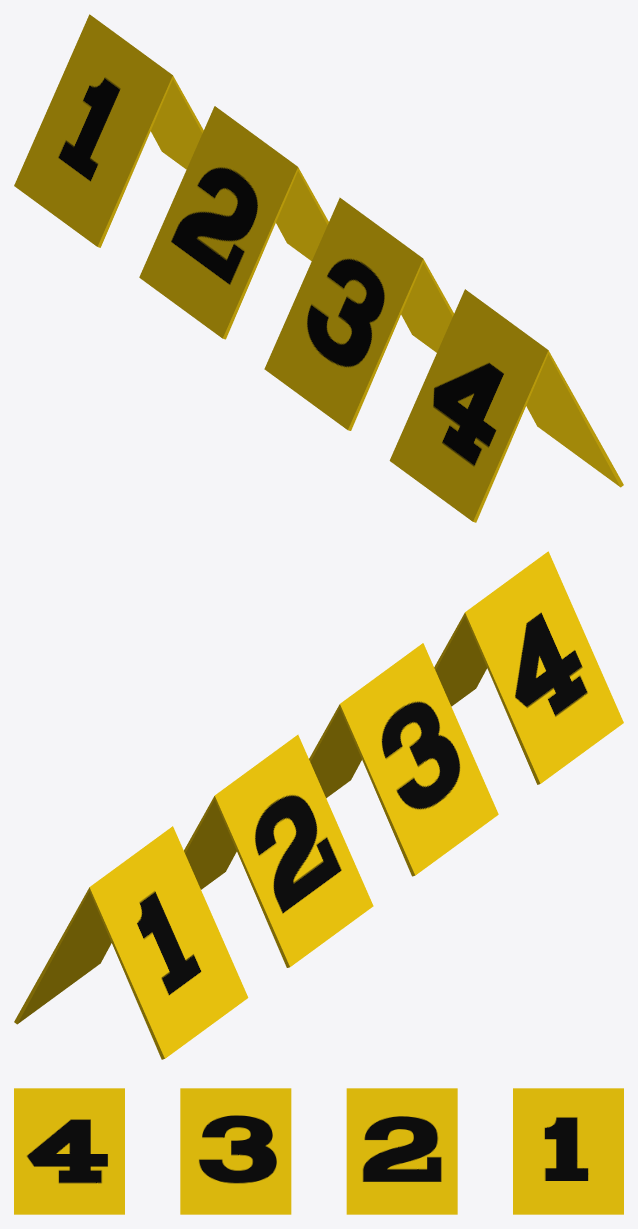
The model's file is crime num.fbx.
The picture shows the model from 3 angles, top to bottom: view 1: azimuth 30°, elevation 25°; view 2: azimuth 150°, elevation 25°; view 3: azimuth 270°, elevation 25°; orthographic projection. The views are drawn at different scales.
Parts seen in each view (by area): view 1: crime num4, crime num2, crime num3, crime num1; view 2: crime num1, crime num3, crime num2, crime num4; view 3: crime num2, crime num3, crime num1, crime num4.
Boxes of the visible parts, x1,y1,x2,y2 form: crime num4: [389, 289, 623, 522]; crime num2: [139, 106, 328, 339]; crime num3: [264, 197, 453, 430]; crime num1: [14, 14, 203, 247]; crime num1: [14, 826, 248, 1059]; crime num3: [309, 643, 498, 876]; crime num2: [184, 734, 373, 967]; crime num4: [434, 551, 623, 784]; crime num2: [346, 1088, 457, 1214]; crime num3: [180, 1088, 291, 1214]; crime num1: [513, 1088, 623, 1214]; crime num4: [14, 1088, 124, 1214].
Bounding box in the file's own units: 209 × 205 × 1100.
